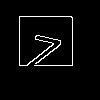Z: (25, 25, 66, 76)
